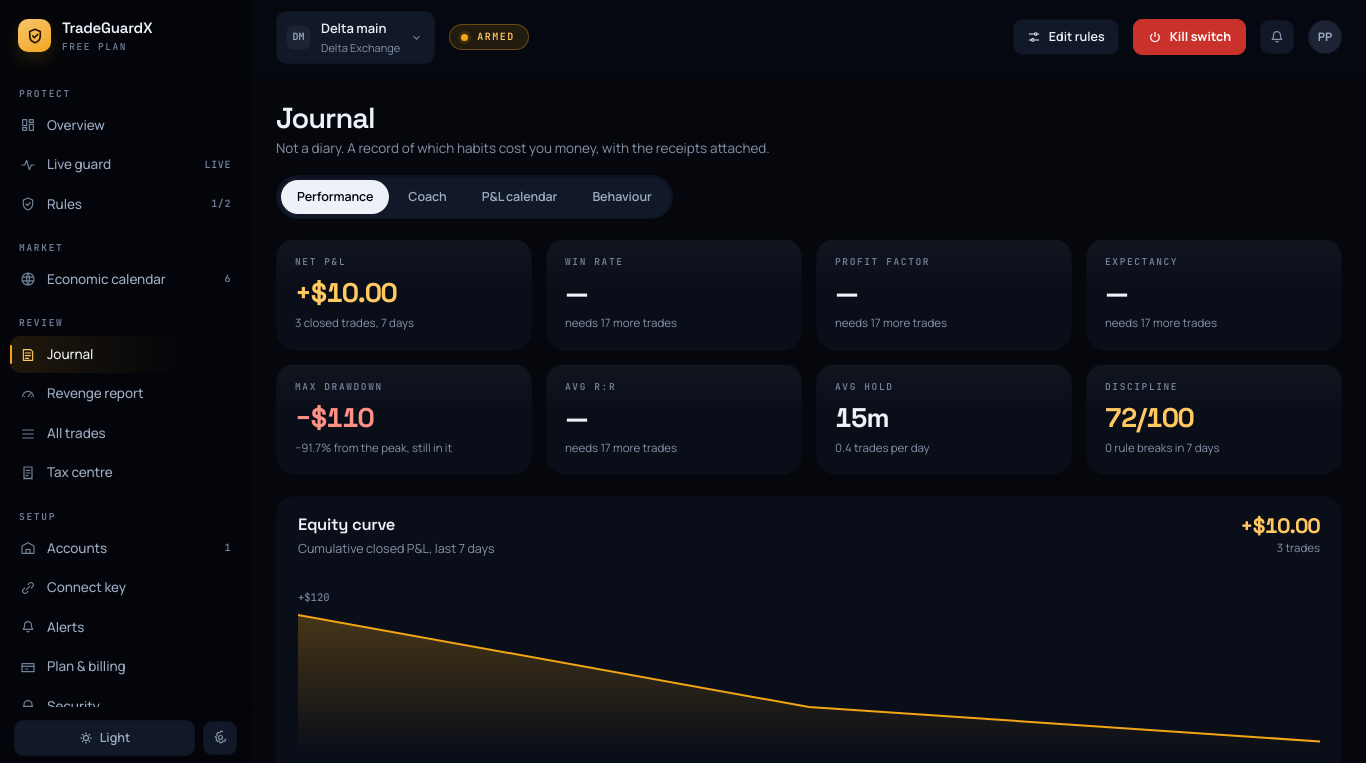
Test: dashboard shell › renders Journal on Performance with eight stat cards, charts and reading lines
Check: the heading "Equity curve" is shown, box [298, 514, 395, 535]
Check: the text "Net P&L" is shown, box [295, 255, 346, 268]
# the same discipline selector feeds Behaviour
Click the tab "Behaviour" at (622, 197), box [576, 180, 668, 214]
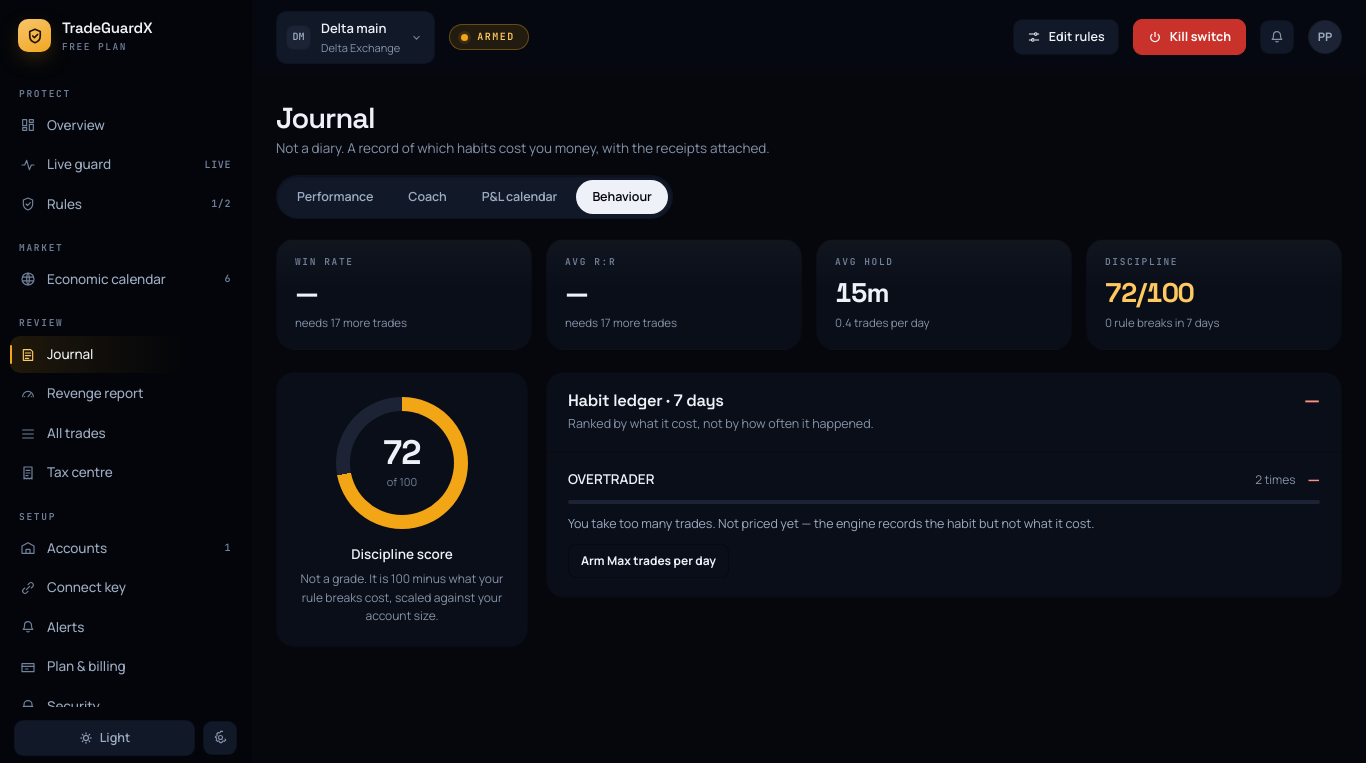
Check: the text "Discipline score" is shown, box [351, 544, 453, 562]
Check: the text "72" is shown, box [383, 436, 421, 470]
Check: the button "Arm Max trades per day" is shown, box [568, 544, 729, 578]
